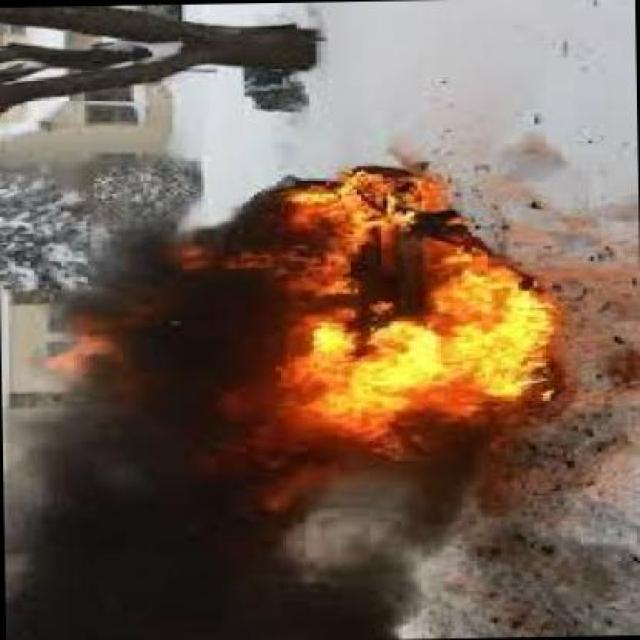Fire: (222, 171, 552, 437)
Smoke: (0, 246, 221, 634), (233, 448, 540, 634)
